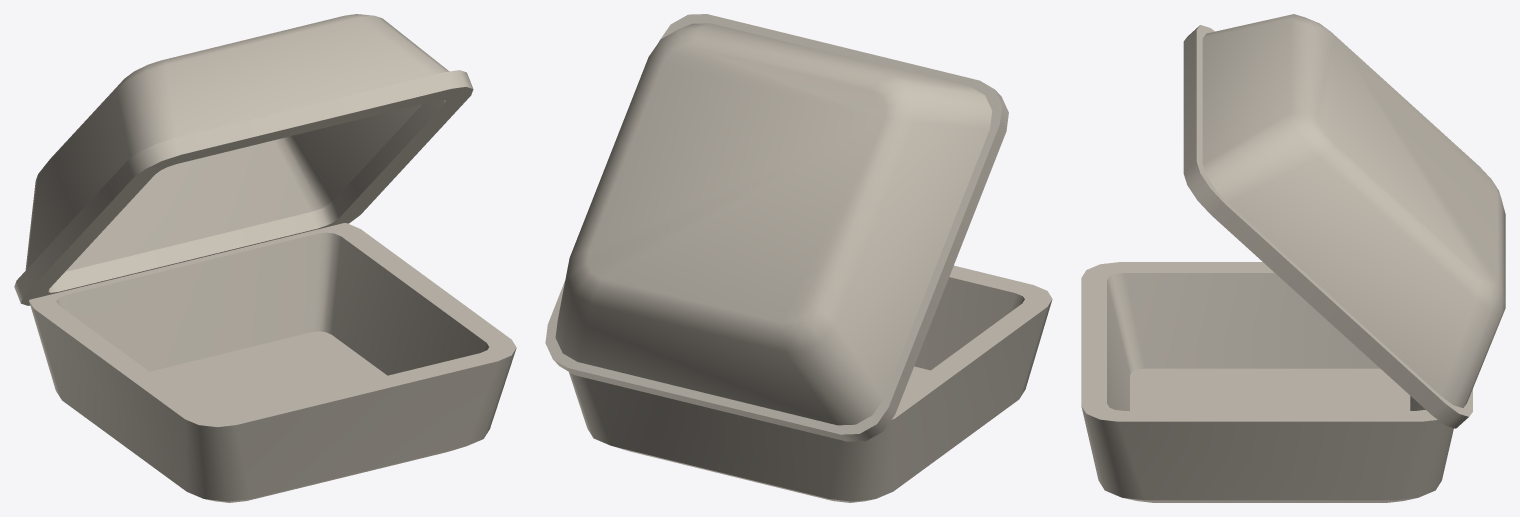
File: BurgerBox_01.fbx
3 renders of one model, left to right at view 1: azimuth 30°, elevation 25°; view 2: azimuth 150°, elevation 25°; view 3: azimuth 270°, elevation 25°, orthographic.
Visible parts, largest first — view 1: BurgerBox_01, BurgerBox_01_Top; view 2: BurgerBox_01_Top, BurgerBox_01; view 3: BurgerBox_01_Top, BurgerBox_01.
Part boxes in pixels (bbox=[...]): BurgerBox_01: bbox=[29, 223, 516, 502]; BurgerBox_01_Top: bbox=[14, 14, 473, 305]; BurgerBox_01_Top: bbox=[545, 14, 1008, 441]; BurgerBox_01: bbox=[569, 265, 1052, 502]; BurgerBox_01_Top: bbox=[1183, 14, 1505, 428]; BurgerBox_01: bbox=[1081, 262, 1453, 502].
Bounding box in the file's own units: 0.1866 × 0.1972 × 0.2028.
